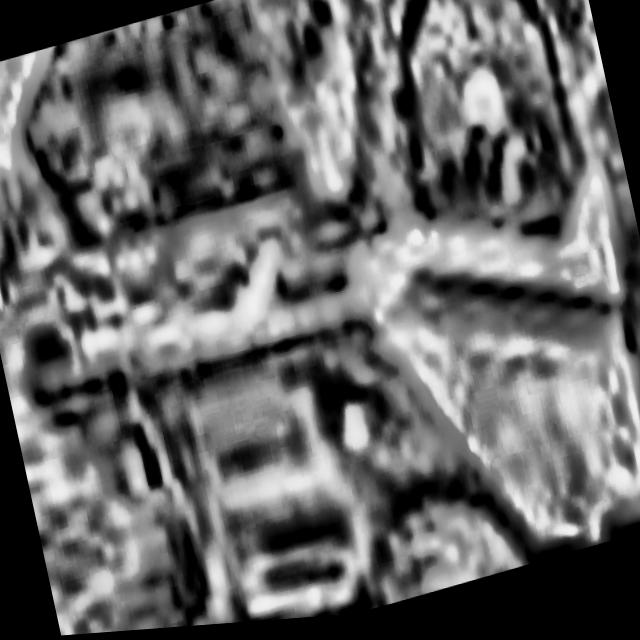dump_truck: (13, 91, 640, 639)
